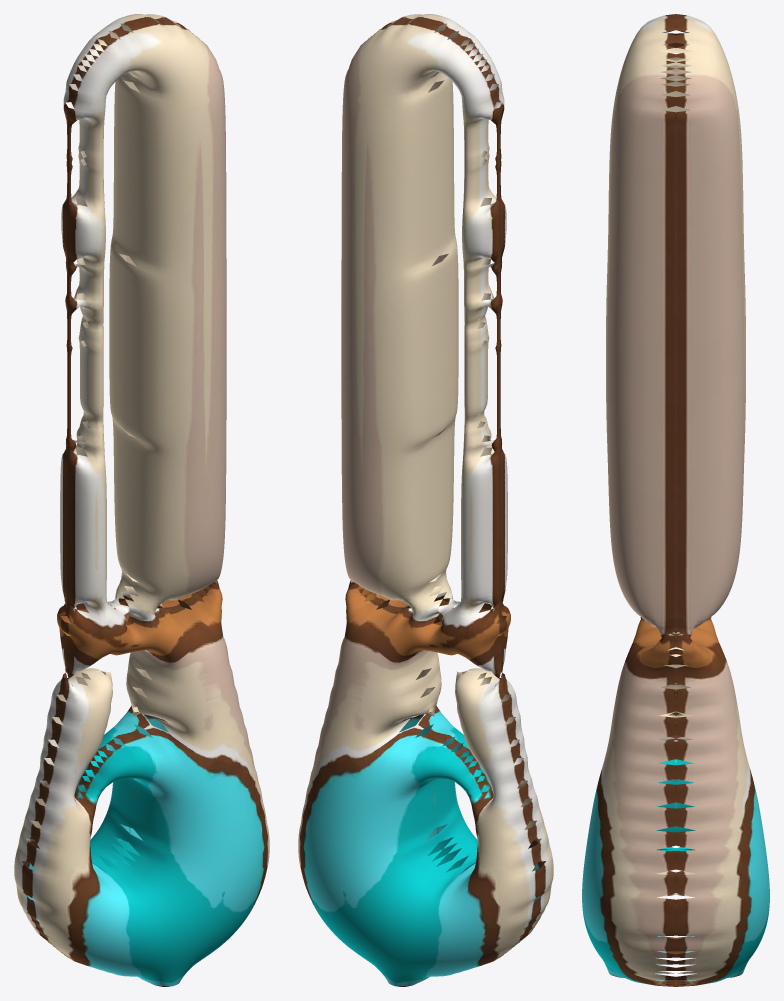
Rendered from wall_pillar.glb.
3 renders of one model, left to right at view 1: azimuth 30°, elevation 25°; view 2: azimuth 150°, elevation 25°; view 3: azimuth 270°, elevation 25°, orthographic.
Parts seen in each view (by area): view 1: wall_pillar; view 2: wall_pillar; view 3: wall_pillar.
Part boxes in pixels (box(x1,y1,x2,y2)): wall_pillar: box(14, 14, 269, 986); wall_pillar: box(298, 14, 553, 986); wall_pillar: box(582, 14, 769, 986).
Size of the model in its own units: 0.9576 by 3.82 by 0.6857.
1 material, 1 textured.
